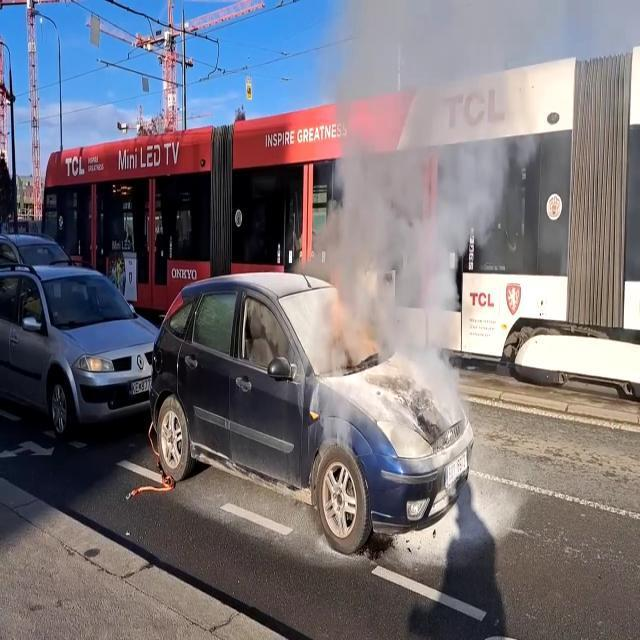Smoke: (297, 0, 539, 443)
